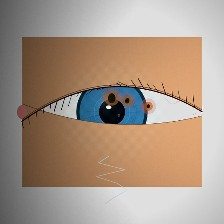foreign_body_visible: (138, 98, 159, 114)
